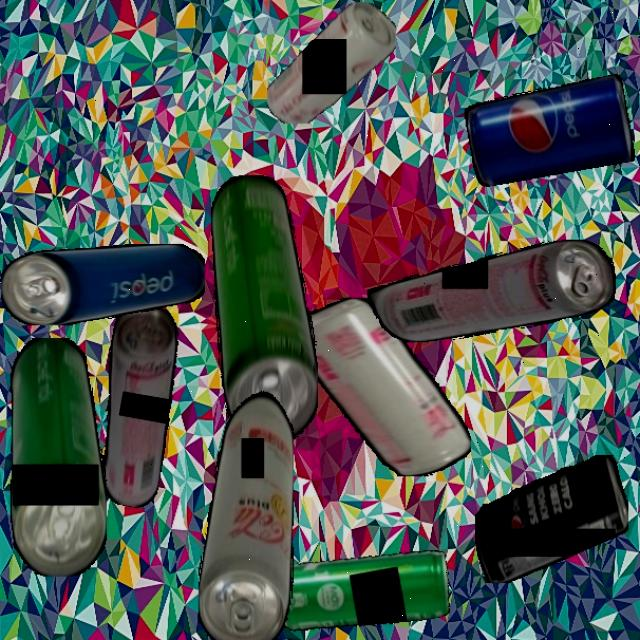debris: (282, 298, 471, 476), (210, 175, 318, 442), (367, 239, 616, 342), (198, 385, 294, 640), (10, 337, 106, 577), (84, 301, 188, 510), (474, 454, 628, 583), (462, 74, 636, 188), (269, 537, 455, 640), (1, 243, 205, 325), (266, 1, 396, 124)
